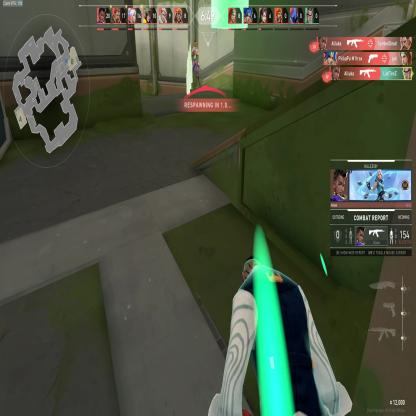enemy: (192, 37, 202, 87)
